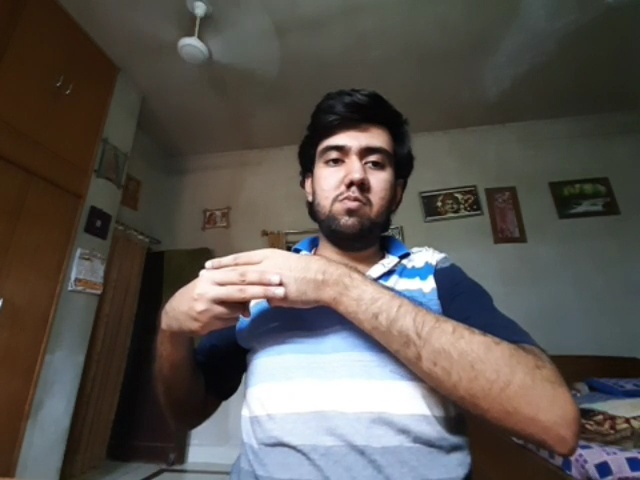Name: (164, 248, 319, 334)
